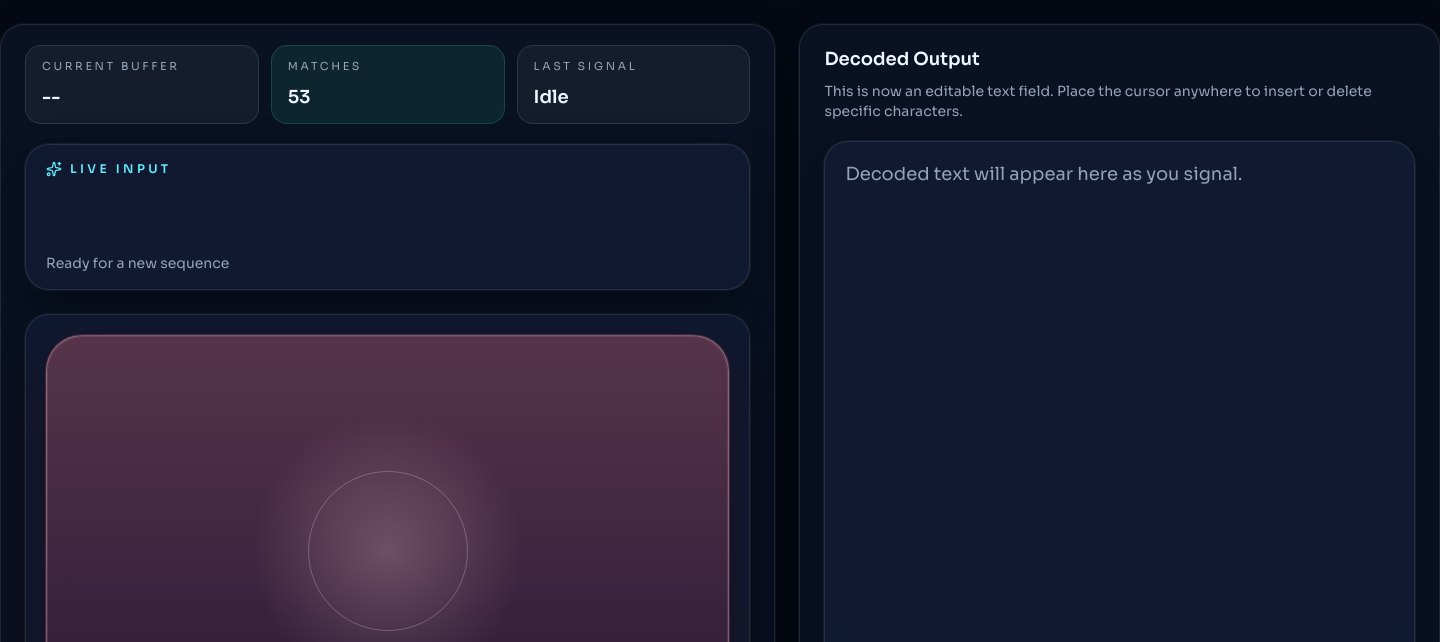
MorseInputPage › deletes the character before the cursor in the decoded output field
Type "TEST" into the text box with test id "decoded-output".
click(1120, 262); type("TEST")  # box [845,158,1394,366]
(page scrolled)
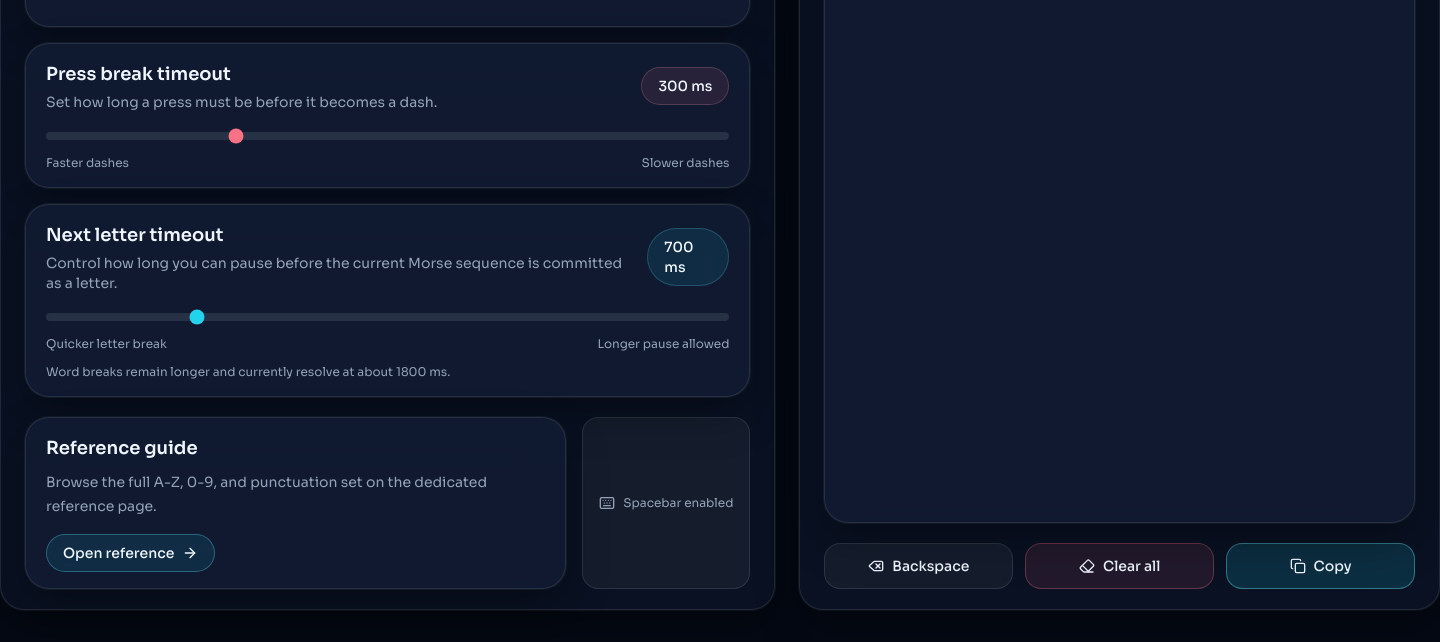
Click the button "Backspace".
click(919, 566)  # box [824,542,1013,588]
(page scrolled)
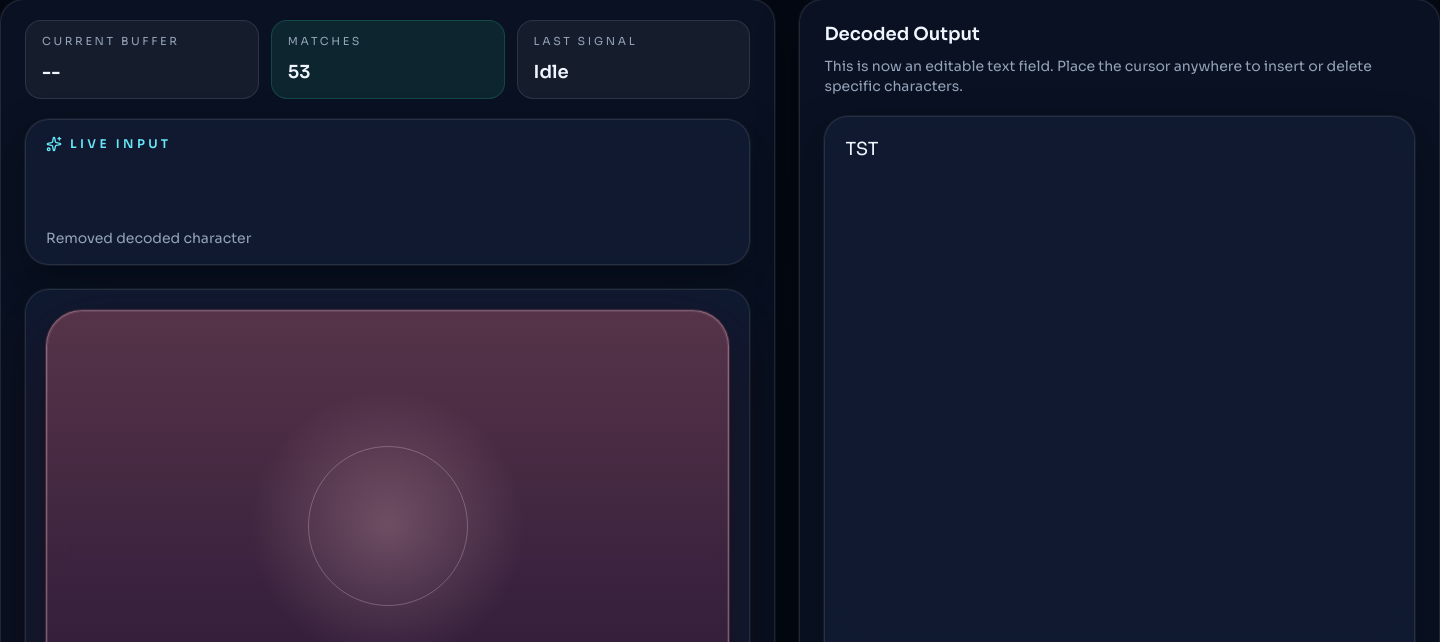
Now the text box with test id "decoded-output" holds "TST", box [845,133,1394,341]
